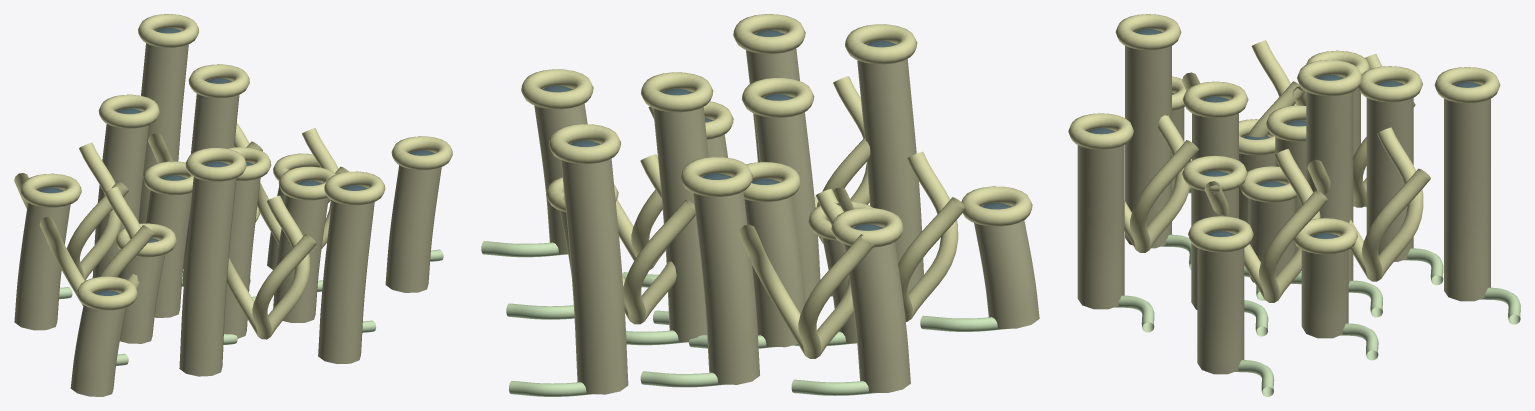
Rendered from bio_thermal_colony_24_near.glb.
3 renders of one model, left to right at view 1: azimuth 30°, elevation 25°; view 2: azimuth 150°, elevation 25°; view 3: azimuth 270°, elevation 25°, orthographic. The views are drawn at different scales.
Visible parts, largest first — view 1: Chimney biofilm.007, Chimney biofilm.010, Chimney biofilm.013, Chimney biofilm.009, Spiral filament.006, Chimney biofilm.011, Chimney biofilm.012, Chimney biofilm.006, Spiral filament.003, Chimney biofilm.001, Chimney biofilm.005, Chimney biofilm.002 (+19 smaller); view 2: Chimney biofilm.011, Chimney biofilm.006, Chimney biofilm.007, Chimney biofilm.003, Chimney biofilm.009, Spiral filament.003, Chimney biofilm.012, Chimney biofilm.001, Spiral filament.012, Chimney biofilm.002, Spiral filament.009, Chimney biofilm.013 (+24 smaller); view 3: Chimney biofilm.011, Chimney biofilm.010, Chimney biofilm.007, Chimney biofilm.013, Chimney biofilm.003, Spiral filament.009, Spiral filament, Chimney biofilm.006, Spiral filament.006, Chimney biofilm.008, Chimney biofilm, Spiral filament.012 (+26 smaller).
Part boxes in pixels (<box>): Chimney biofilm.007: <box>179,163,236,376</box>; Chimney biofilm.010: <box>318,187,374,363</box>; Chimney biofilm.013: <box>385,152,441,292</box>; Chimney biofilm.009: <box>14,189,70,330</box>; Spiral filament.006: <box>227,195,316,339</box>; Chimney biofilm.011: <box>139,30,188,223</box>; Chimney biofilm.012: <box>70,292,125,396</box>; Chimney biofilm.006: <box>92,110,149,277</box>; Spiral filament.003: <box>14,142,128,280</box>; Chimney biofilm.001: <box>146,177,191,317</box>; Chimney biofilm.005: <box>273,182,328,322</box>; Chimney biofilm.002: <box>224,163,260,338</box>; Chimney biofilm.011: <box>561,143,628,394</box>; Chimney biofilm.006: <box>693,176,759,384</box>; Chimney biofilm.007: <box>857,43,923,292</box>; Chimney biofilm.003: <box>653,91,708,342</box>; Chimney biofilm.009: <box>844,226,910,392</box>; Spiral filament.003: <box>738,188,874,358</box>; Chimney biofilm.012: <box>974,205,1039,328</box>; Chimney biofilm.001: <box>744,181,805,347</box>; Spiral filament.012: <box>833,151,965,321</box>; Chimney biofilm.002: <box>754,96,820,301</box>; Spiral filament.009: <box>563,154,695,324</box>; Chimney biofilm.013: <box>534,88,587,254</box>; Chimney biofilm.011: <box>1444,84,1490,301</box>; Chimney biofilm.010: <box>1077,130,1124,309</box>; Chimney biofilm.007: <box>1125,31,1171,248</box>; Chimney biofilm.013: <box>1197,233,1244,374</box>; Chimney biofilm.003: <box>1306,77,1353,283</box>; Spiral filament.009: <box>1307,127,1430,281</box>; Spiral filament: <box>1204,149,1327,302</box>; Chimney biofilm.006: <box>1366,83,1413,261</box>; Spiral filament.006: <box>1124,115,1198,252</box>; Chimney biofilm.008: <box>1301,235,1348,338</box>; Chimney biofilm: <box>1248,183,1295,282</box>; Spiral filament.012: <box>1182,40,1304,137</box>.
Bounding box in the file's own units: 2.19 × 1.07 × 1.92.
